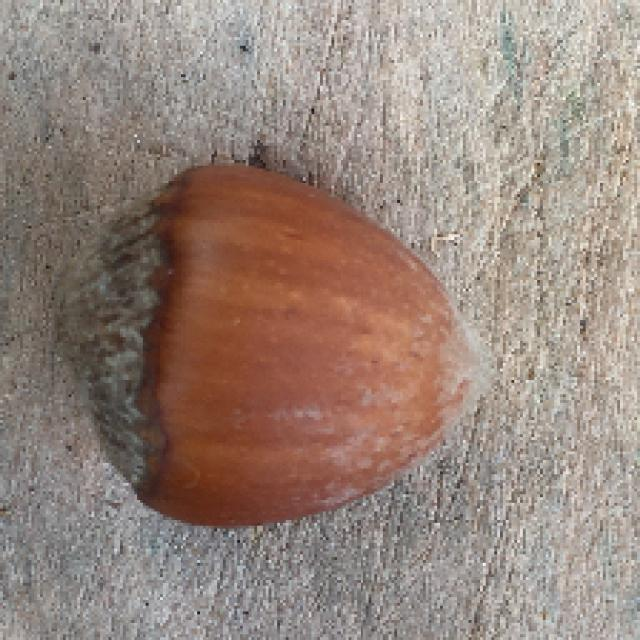qualityHazelnut: (47, 153, 489, 532)
